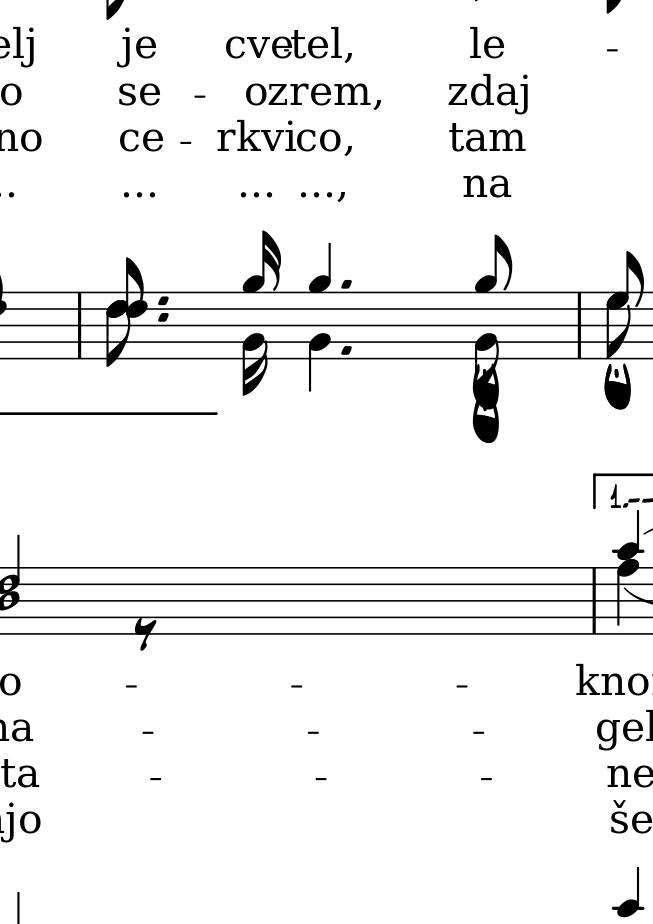4_8_10: (611, 509, 644, 634)
Rests8: (130, 616, 158, 653)
Single_barline: (571, 292, 587, 358), (72, 292, 88, 358), (587, 568, 602, 633)
